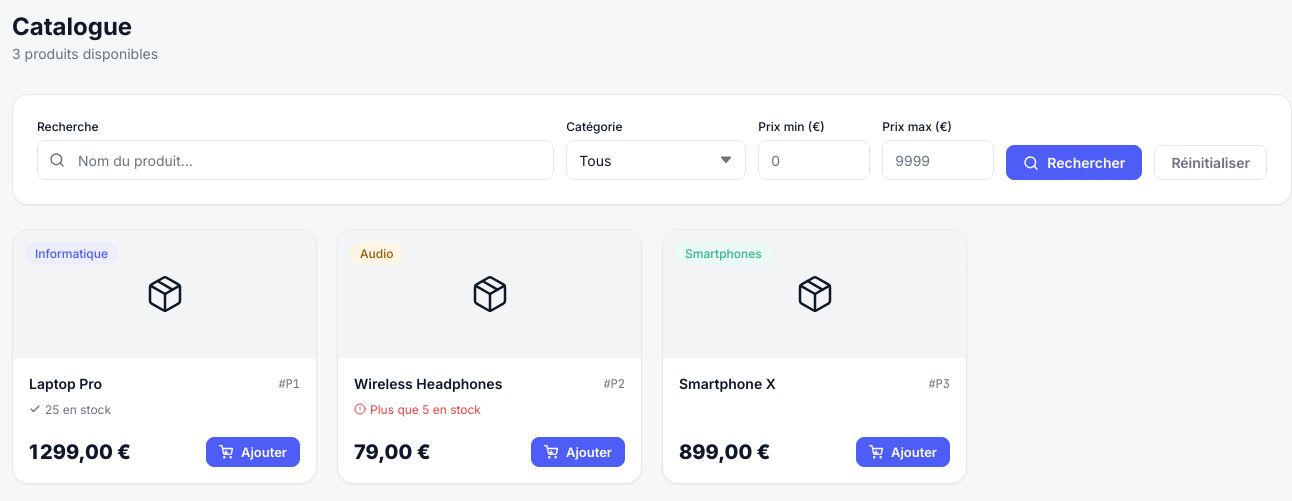
Test: CatalogPage › adds product to cart when 'Ajouter' is clicked
This screenshot has width=1292, height=501.
Check: the heading "Laptop Pro" is shown, box [29, 374, 102, 394]
Click the button "Ajouter" next to "1 299,00 €" at {"x": 253, "y": 452}, box [206, 437, 300, 467]
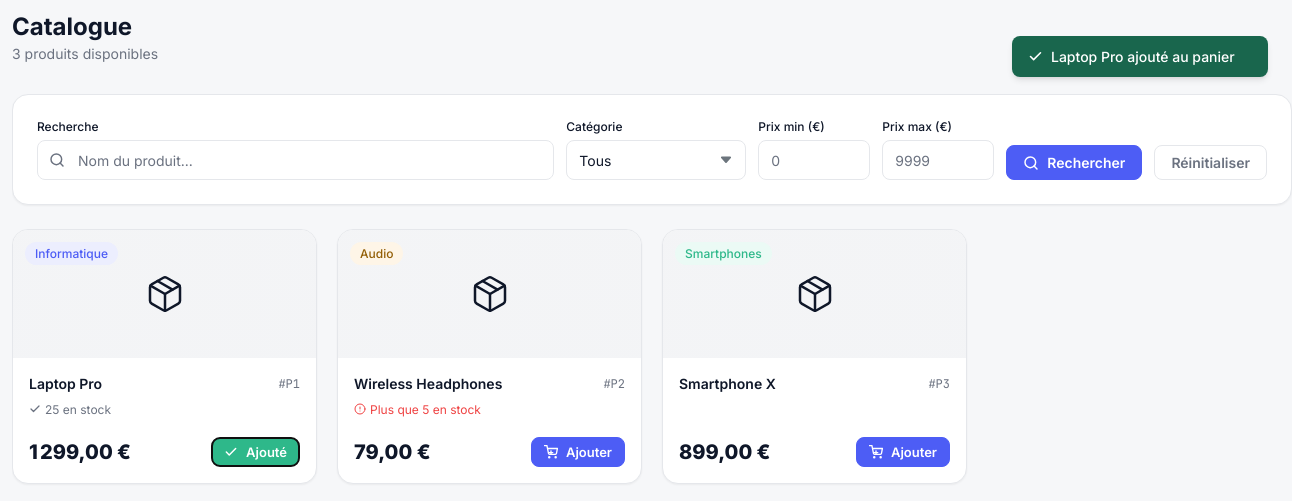
Check: the text "Laptop Pro ajouté au panier" is shown, box [1012, 36, 1268, 77]
Check: the button "Ajouté" is shown, box [211, 437, 300, 467]
